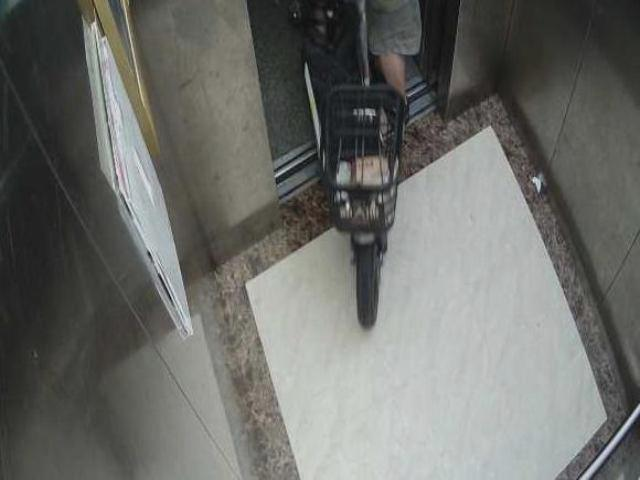emotor: (276, 14, 444, 319)
